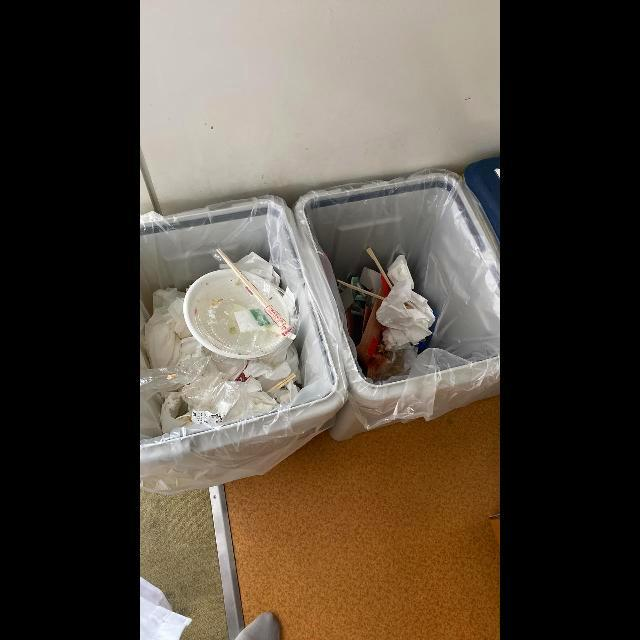paper: (376, 255, 435, 344), (144, 287, 190, 368), (382, 330, 414, 353)
plastic_bag: (140, 357, 210, 401)
